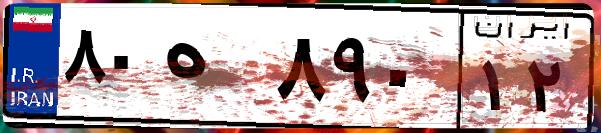0: (385, 28, 445, 110), (110, 28, 158, 98)
1: (475, 38, 525, 113)
2: (525, 38, 570, 115)
8: (270, 28, 330, 110), (57, 26, 110, 100)
9: (330, 28, 385, 110)
ه: (158, 20, 270, 120)
